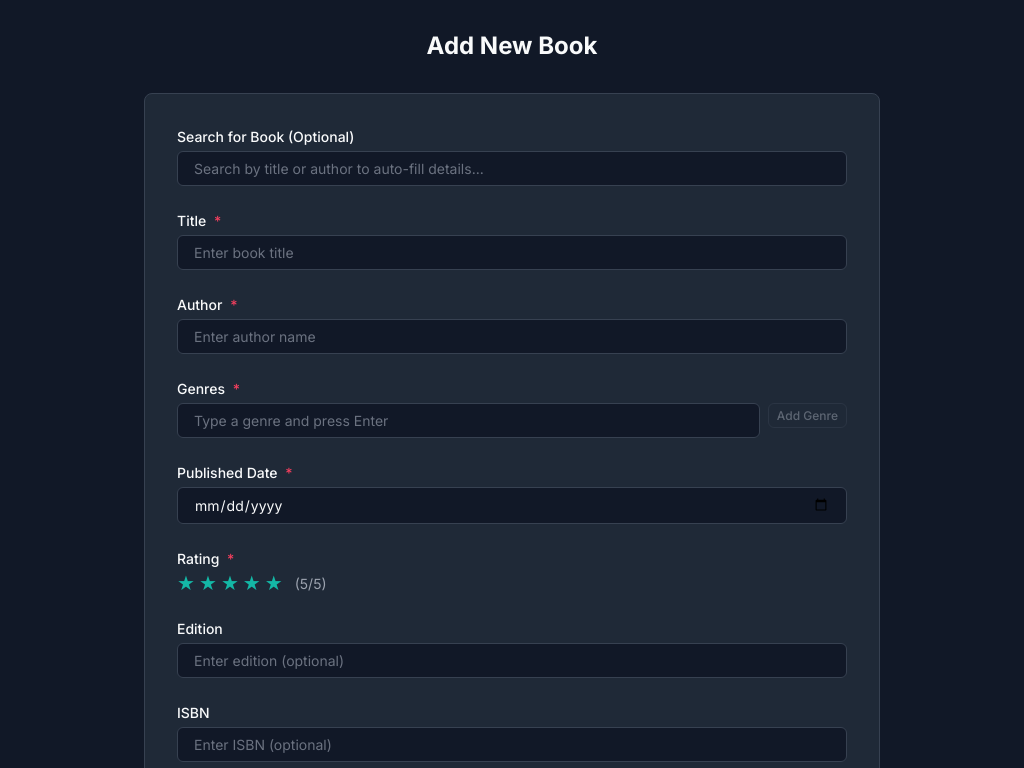
Scenario: BookForm - Date Validation › should show error when published date is empty
Fill all required fields except published date
Type "Test Book" into the field labelled "Title *". click: (512, 252)
box: [177, 235, 847, 270]
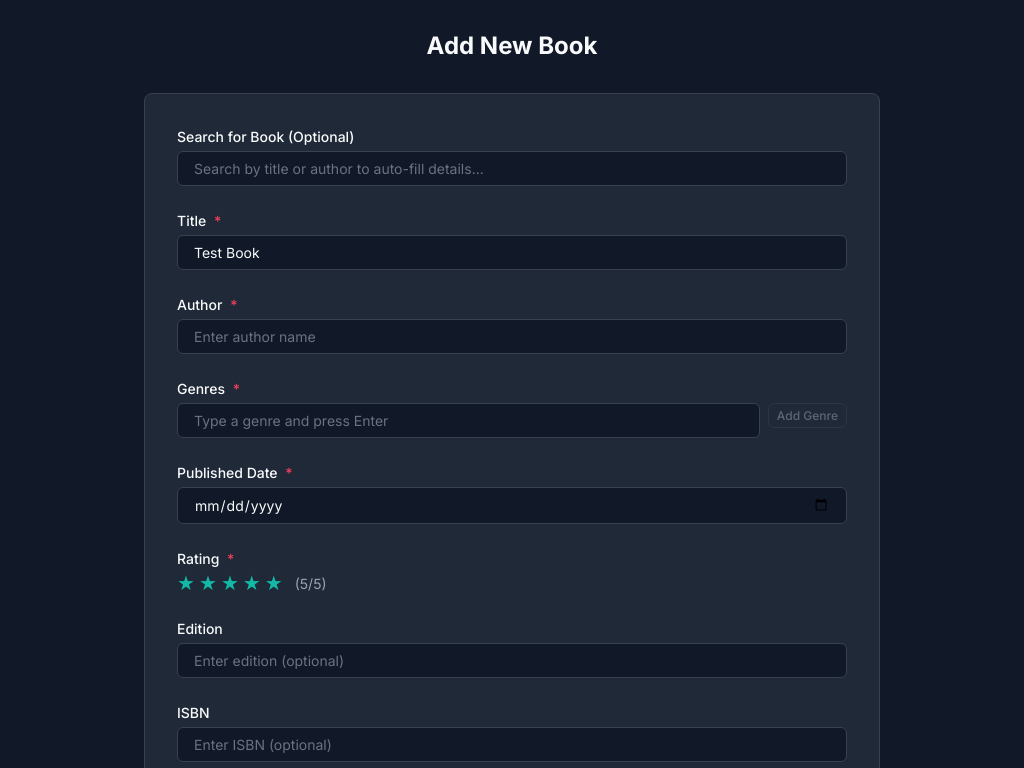
Type "Test Author" into the field labelled "Author *". click: (512, 336)
box: [177, 319, 847, 354]
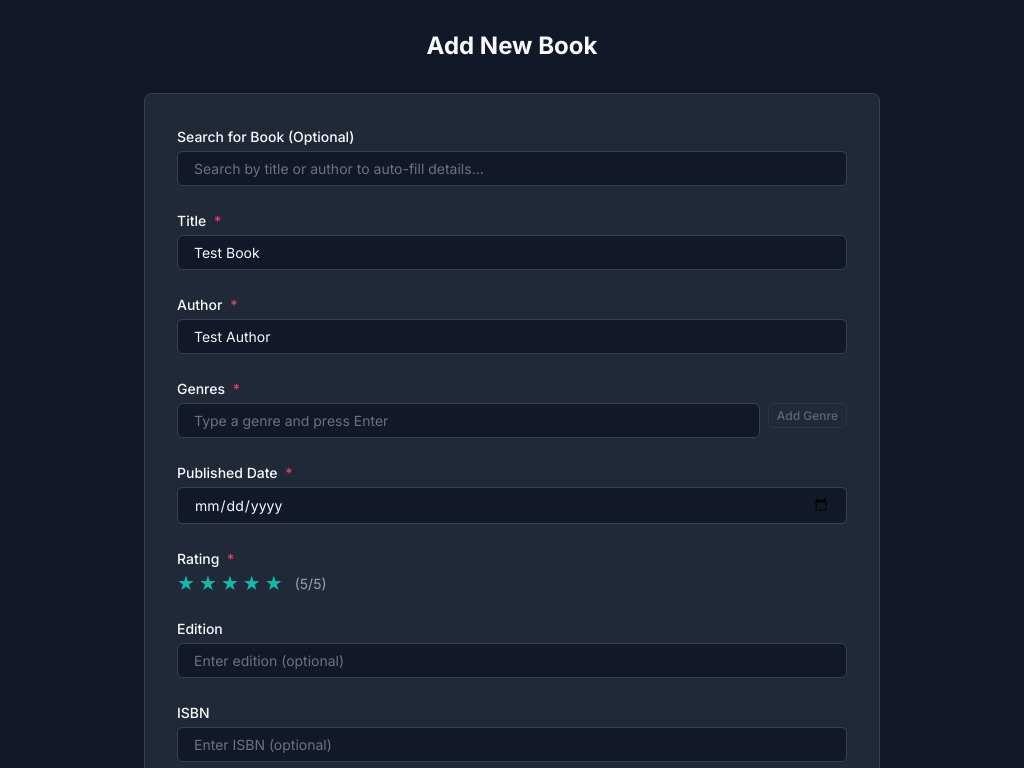
Type "Fiction" into the field labelled "Genres *". click: (468, 420)
box: [177, 403, 760, 438]
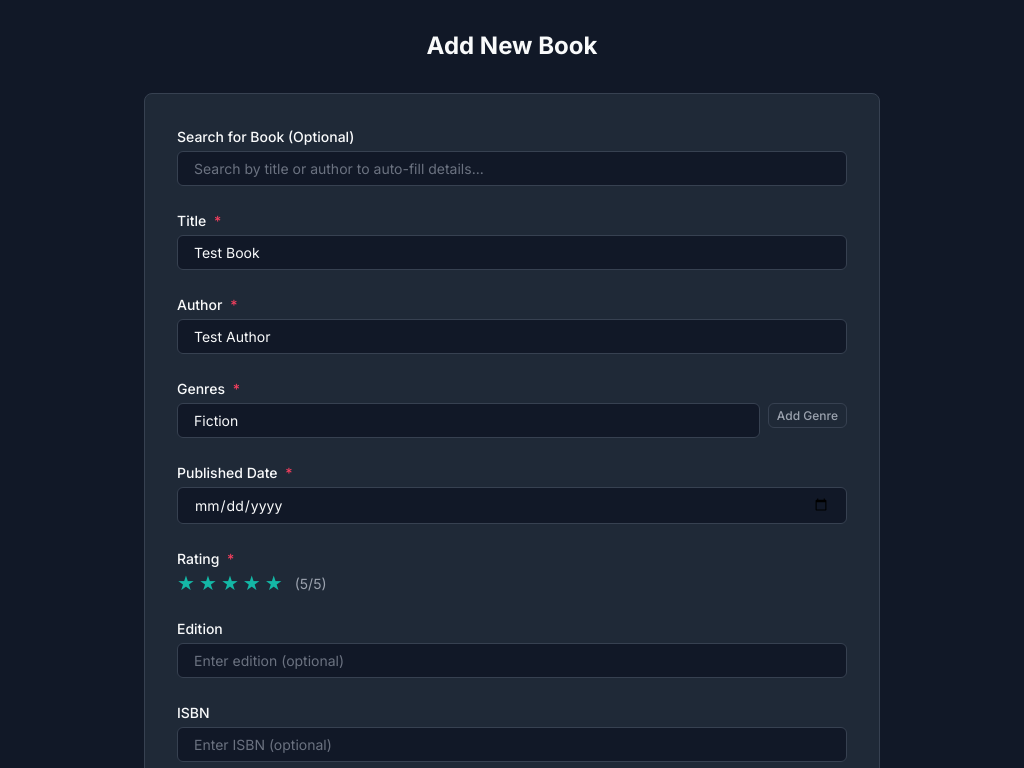
Click the button "Add Genre". click: (807, 415)
box: [768, 403, 847, 428]
(page scrolled)
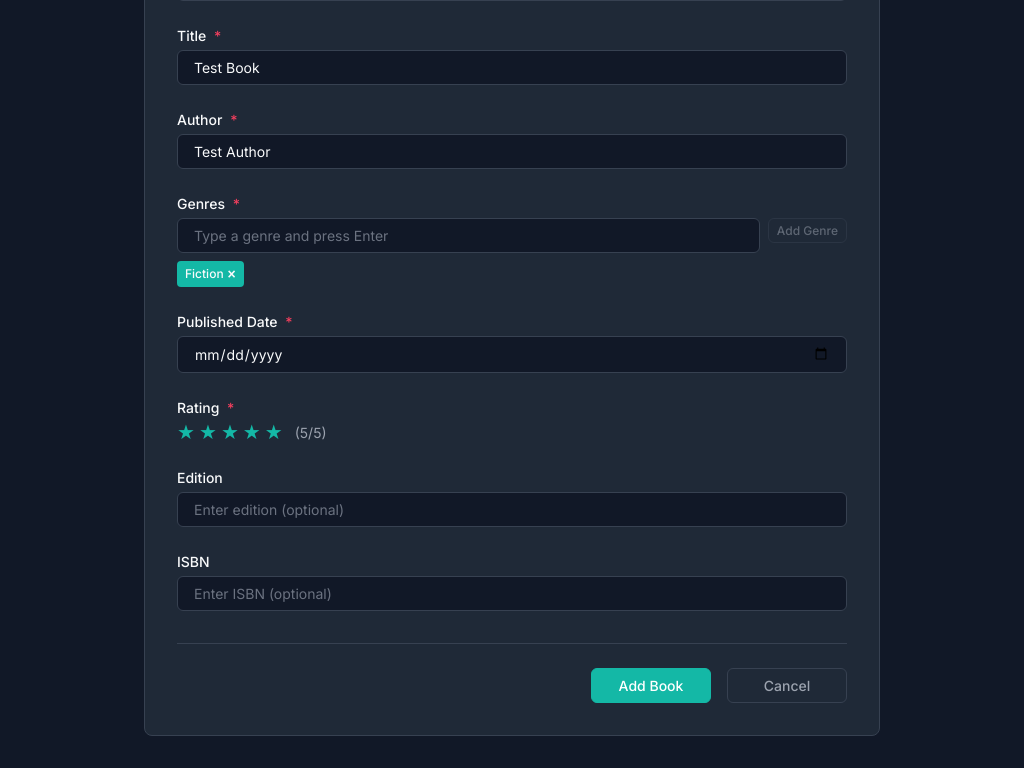
Click the button "Add Book". click: (651, 685)
box: [591, 668, 711, 703]
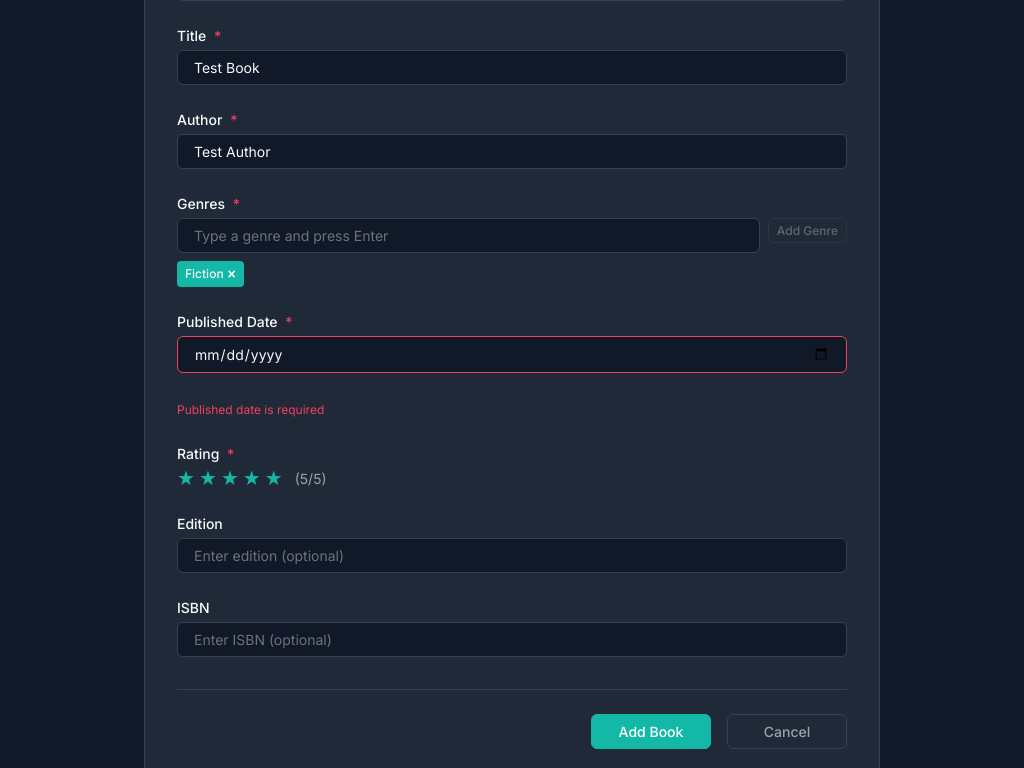
expect the text "Published date is required" is shown: met, box [177, 402, 324, 417]
